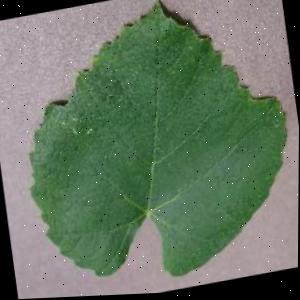Folha: (3, 0, 300, 300)
